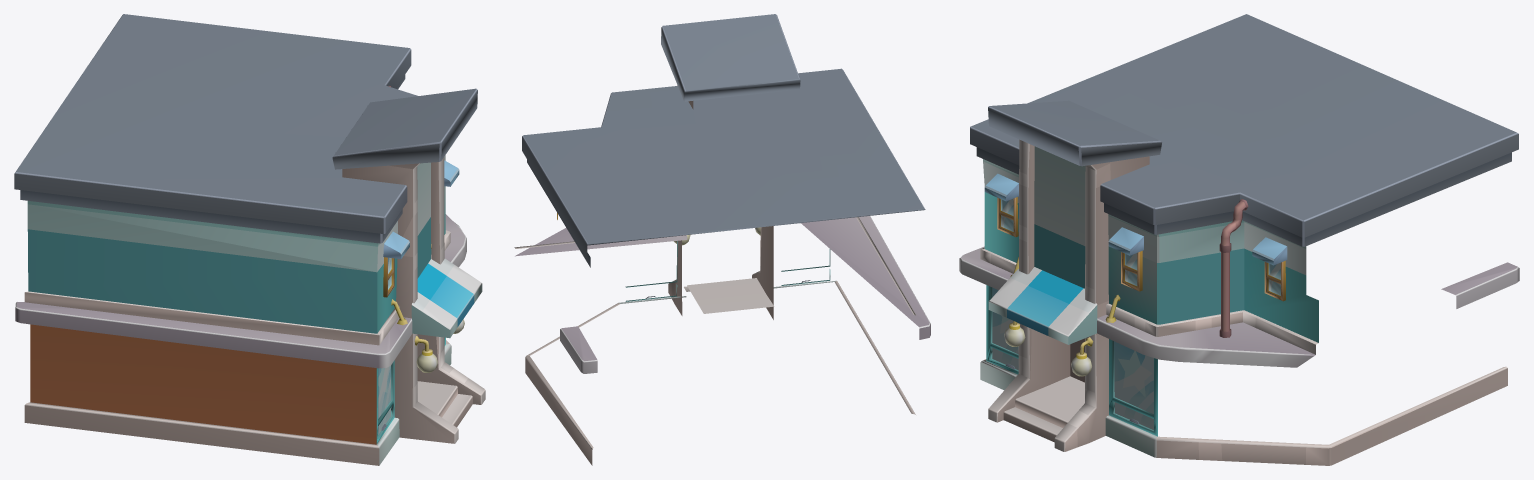
File: CivicBuilding.glb
The picture shows the model from 3 angles, left to right: view 1: azimuth 30°, elevation 25°; view 2: azimuth 150°, elevation 25°; view 3: azimuth 270°, elevation 25°; orthographic projection. The views are drawn at different scales.
Visible parts, largest first — view 1: CivicBuilding; view 2: CivicBuilding; view 3: CivicBuilding.
Part boxes in pixels (x1=…): CivicBuilding: x1=14, y1=14, x2=485, y2=465; CivicBuilding: x1=514, y1=14, x2=930, y2=465; CivicBuilding: x1=959, y1=14, x2=1519, y2=465.
Size of the model in its own units: 9.42 by 6.41 by 10.61.
